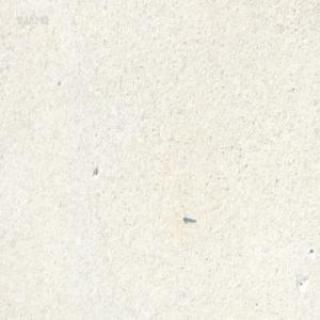Nailtrack_idkeyframe: (181, 212, 195, 221)
